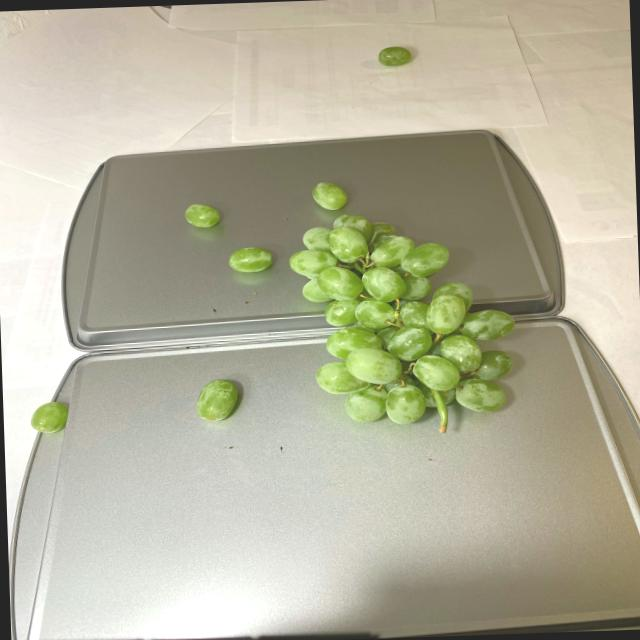grapes: (182, 172, 520, 444), (27, 396, 72, 437), (378, 42, 413, 70)
